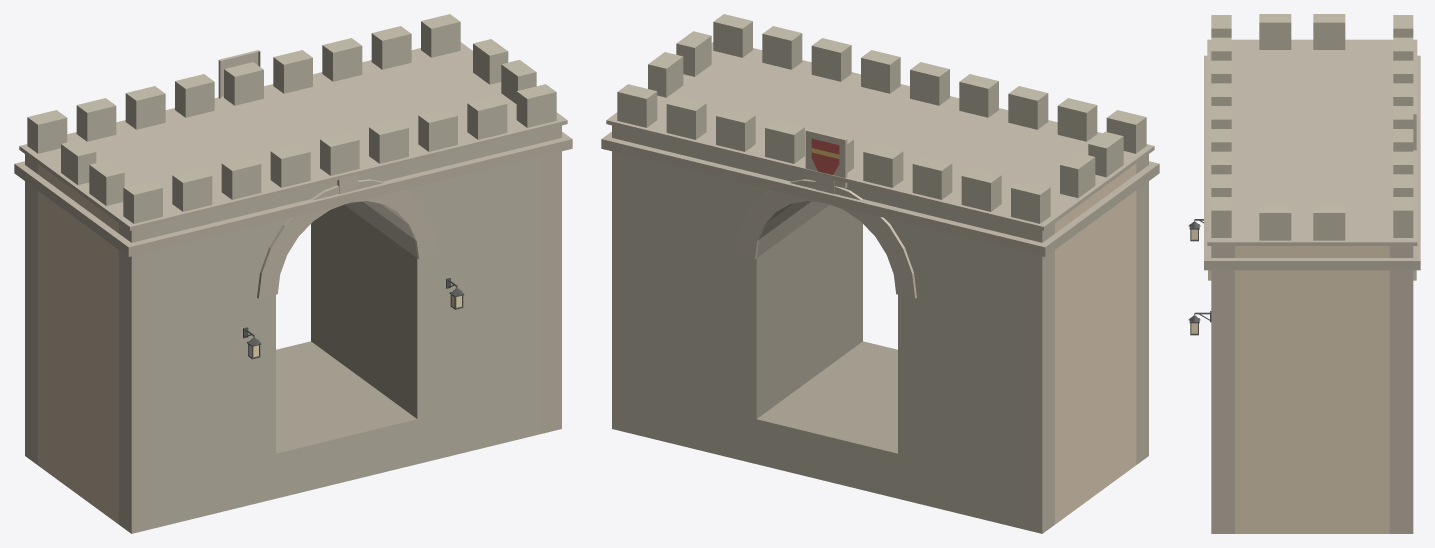
File: SM_BM_BH_Porta_SE.glb
3 views of the same model, side by side, from view 1: azimuth 30°, elevation 25°; view 2: azimuth 150°, elevation 25°; view 3: azimuth 270°, elevation 25° (orthographic). The views are drawn at different scales.
Parts seen in each view (by area): view 1: SM_BM_BH_Porta_SE; view 2: SM_BM_BH_Porta_SE; view 3: SM_BM_BH_Porta_SE.
Boxes of the visible parts, x1,y1,x2,y2 form: SM_BM_BH_Porta_SE: (14, 14, 572, 533); SM_BM_BH_Porta_SE: (601, 14, 1159, 533); SM_BM_BH_Porta_SE: (1188, 14, 1420, 533).
Bounding box in the file's own units: 14.44 × 10.8 × 6.91.
